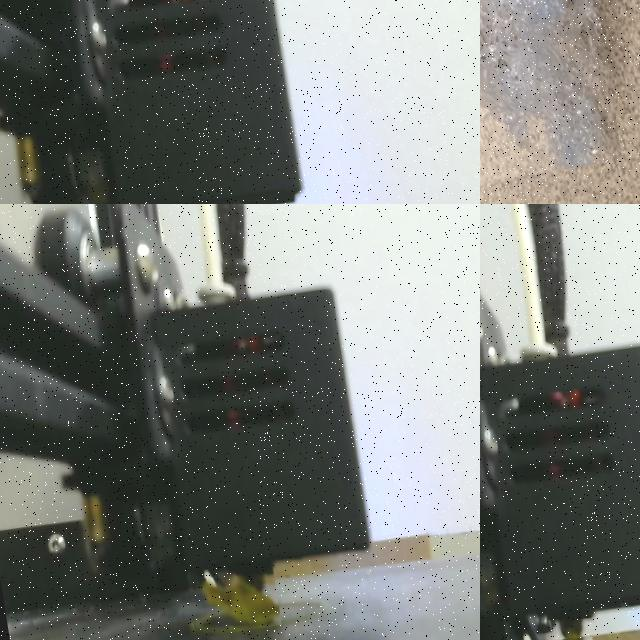spaghetti: (480, 0, 613, 173), (194, 571, 280, 635)
